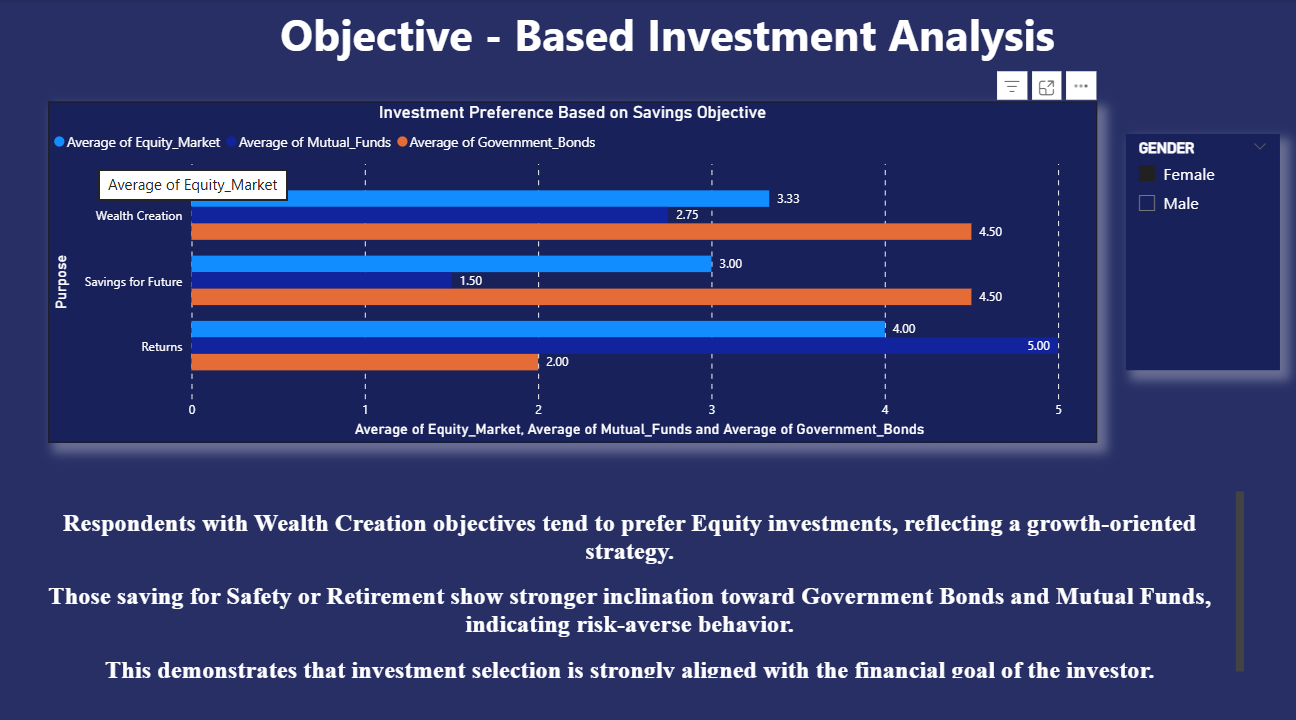

The page's visual inventory and layout, read from the dashboard file:
{"tool":"powerbi","page":{"name":"Investment Analysis","canvas":[1280,720],"ordinal":2},"visuals":[{"type":"textbox","box":[139.9,0,1046.6,100.6],"z":0},{"type":"clusteredBarChart","title":" Investment Preference Based on Savings Objective","fields":{"Category":["Data_set 2.Purpose"],"Y":["Avg(Data_set 2.Equity_Market)","Avg(Data_set 2.Mutual_Funds)","Avg(Data_set 2.Government_Bonds)"]},"box":[55.2,100.6,1029.5,335],"z":1000},{"type":"slicer","fields":{"Values":["Data_set 2.gender"]},"box":[1112.9,133.1,150.9,231.9],"z":2000},{"type":"textbox","box":[25.8,478.5,1208.6,192.6],"z":3000}]}

Visuals, with their boxes in screenshot pixels (x1, y1, x2, y2), scaled from the page's 1280x720 canvas onto the 1296x720 screenshot:
textbox: 142, 0, 1201, 101
" Investment Preference Based on Savings Objective" clusteredBarChart: 56, 101, 1098, 436
slicer - Data_set 2.gender: 1127, 133, 1280, 365
textbox: 26, 478, 1250, 671
